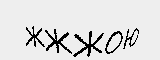Ж: (72, 31, 104, 57), (42, 28, 74, 53), (23, 25, 45, 46)
О: (102, 28, 124, 55)
Ю: (122, 25, 139, 48)
